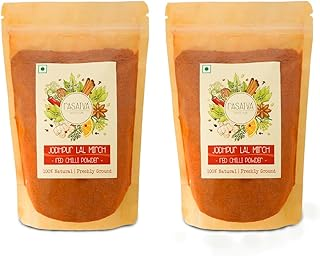Chilli Powder: (1, 5, 150, 240), (164, 4, 312, 231)
